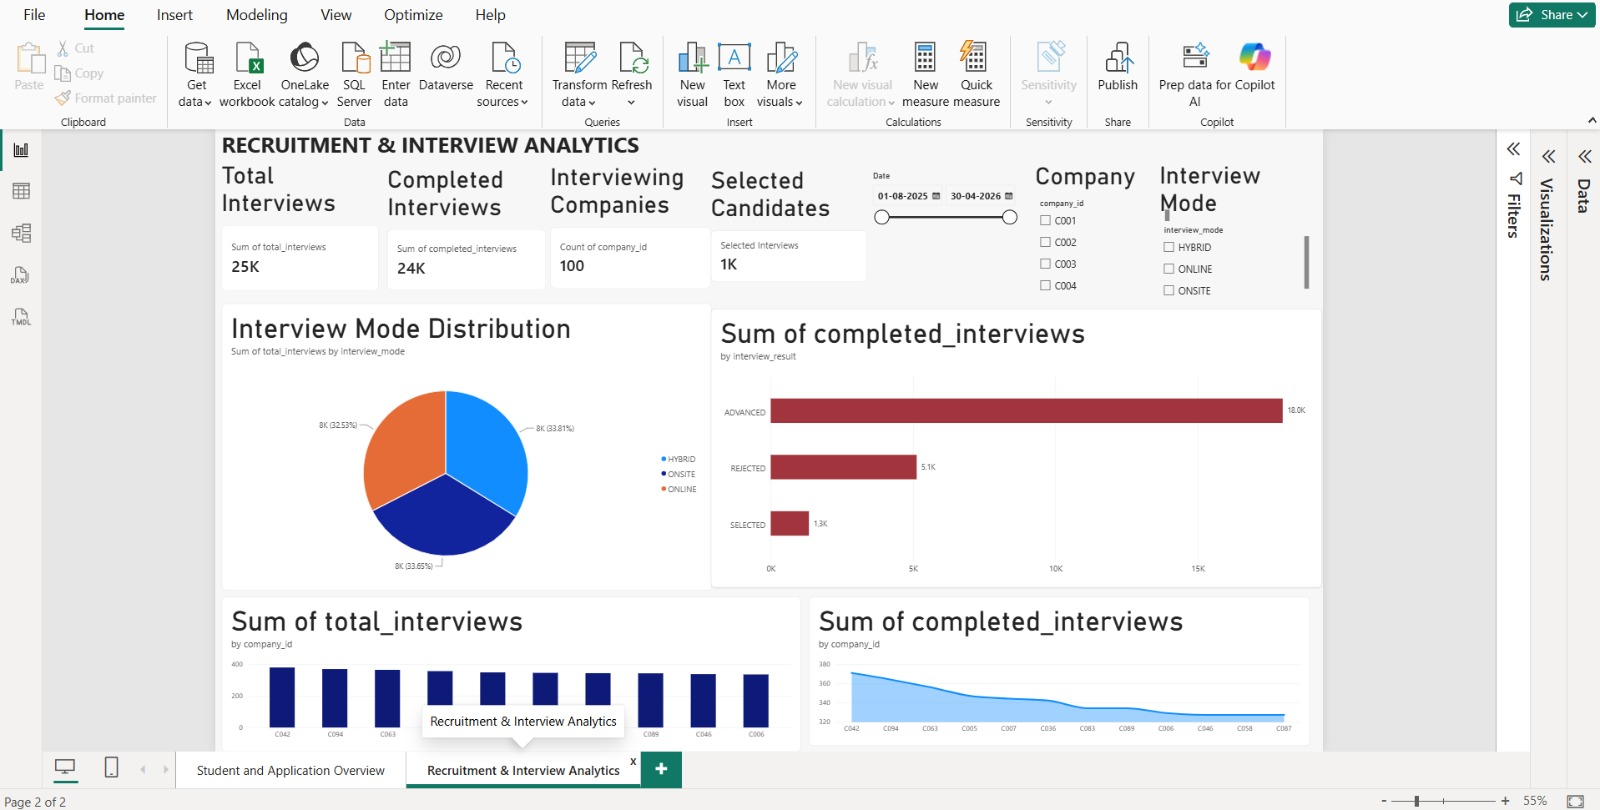

The dashboard page shown, as its layout file describes it:
{"tool":"powerbi","page":{"name":" Recruitment & Interview Analytics","canvas":[1920,1080],"ordinal":1},"visuals":[{"type":"cardVisual","title":"Total Interviews","fields":{"Data":["Sum(Gold_Interviews.total_interviews)"]},"box":[10.3,53.5,273.8,226.4],"z":0},{"type":"cardVisual","title":"Completed Interviews","fields":{"Data":["Sum(Gold_CompletedInterviews.completed_interviews)"]},"box":[298.5,61.7,275.8,218.2],"z":1000},{"type":"cardVisual","title":"Interviewing Companies","fields":{"Data":["Count(Gold_Interviews.company_id)"]},"box":[580.4,57.6,279.9,218.2],"z":2000},{"type":"cardVisual","title":"Selected Candidates","fields":{"Data":["Gold_CompletedInterviews.Selected Interviews"]},"box":[860.4,63.8,271.7,201.7],"z":3000},{"type":"pieChart","title":"Interview Mode Distribution","fields":{"Category":["Gold_Interviews.interview_mode"],"Y":["Sum(Gold_Interviews.total_interviews)"]},"box":[10.3,302.6,850.1,498.1],"z":4000},{"type":"clusteredBarChart","title":"Interview Results","fields":{"Category":["Gold_CompletedInterviews.interview_result"],"Y":["Sum(Gold_CompletedInterviews.completed_interviews)"]},"box":[860.4,310.8,1060,483.7],"z":5000},{"type":"columnChart","title":"Top Companies by Interviews","fields":{"Category":["Gold_Interviews.company_id"],"Y":["Sum(Gold_Interviews.total_interviews)"]},"box":[10.3,811,1004.5,269.6],"z":6000},{"type":"areaChart","title":"Completed Interviews by Company","fields":{"Category":["Gold_CompletedInterviews.company_id"],"Y":["Sum(Gold_CompletedInterviews.completed_interviews)"]},"box":[1029.2,811,868.6,259.3],"z":7000},{"type":"slicer","title":"Company","fields":{"Values":["DimCompany.company_id"]},"box":[1422.3,55.6,232.6,232.6],"z":8000},{"type":"slicer","title":"Interview Mode","fields":{"Values":["Gold_Interviews.interview_mode"]},"box":[1638.4,53.5,259.3,234.6],"z":9000},{"type":"textbox","box":[10.3,0,965.4,125.6],"z":10000},{"type":"slicer","fields":{"Values":["DimDate.Date"]},"box":[1132.1,72,261.4,232.6],"z":11000}]}

Visuals, with their boxes on the page's 1920x1080 design canvas (x1, y1, x2, y2). These are canvas units, not pixel positions in the 1600x810 screenshot, which may show the page scaled, cropped or inside an application window:
"Total Interviews" cardVisual: [10, 54, 284, 280]
"Completed Interviews" cardVisual: [298, 62, 574, 280]
"Interviewing Companies" cardVisual: [580, 58, 860, 276]
"Selected Candidates" cardVisual: [860, 64, 1132, 266]
"Interview Mode Distribution" pieChart: [10, 303, 860, 801]
"Interview Results" clusteredBarChart: [860, 311, 1920, 794]
"Top Companies by Interviews" columnChart: [10, 811, 1015, 1081]
"Completed Interviews by Company" areaChart: [1029, 811, 1898, 1070]
"Company" slicer: [1422, 56, 1655, 288]
"Interview Mode" slicer: [1638, 54, 1898, 288]
textbox: [10, 0, 976, 126]
slicer - DimDate.Date: [1132, 72, 1394, 305]
